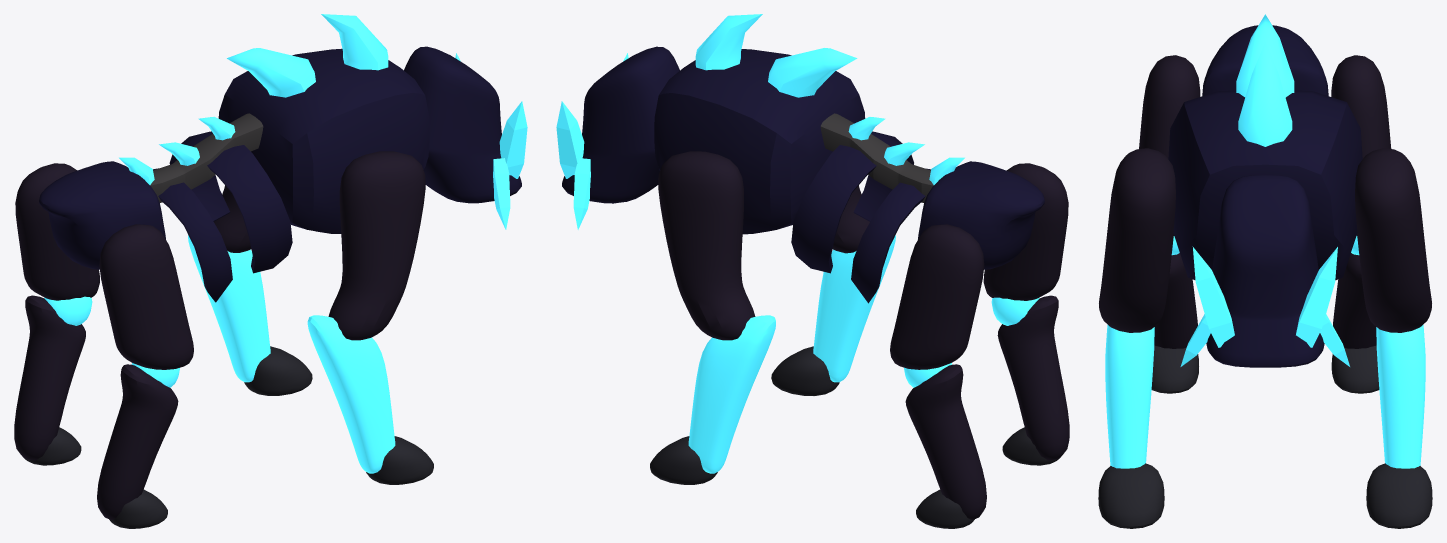
The model's file is робот 3.fbx.
3 views of the same model, side by side, from view 1: azimuth 30°, elevation 25°; view 2: azimuth 150°, elevation 25°; view 3: azimuth 270°, elevation 25° (orthographic). The views are drawn at different scales.
Parts seen in each view (by area): view 1: Cube, Cube.011, Cube.007, Cube.006, Cube.004, Cube.012, Cube.014, Cube.017, Cube.002, Cube.005, Cube.009, Cube.003 (+11 smaller); view 2: Cube, Cube.008, Cube.007, Cube.005, Cube.004, Cube.009, Cube.017, Cube.014, Cube.002, Cube.006, Cube.012, Cube.003 (+11 smaller); view 3: Cube, Cube.007, Cube.008, Cube.011, Cube.009, Cube.012, Cube.004, Cube.006, Cube.005, Cube.010, Cube.013, Cube.020 (+9 smaller).
Part boxes in pixels (left/top/right/bottom): Cube: left=218, top=48, right=429, bottom=233; Cube.011: left=328, top=151, right=425, bottom=340; Cube.007: left=404, top=46, right=521, bottom=203; Cube.006: left=99, top=224, right=193, bottom=369; Cube.004: left=39, top=161, right=165, bottom=269; Cube.012: left=307, top=315, right=395, bottom=473; Cube.014: left=14, top=295, right=85, bottom=460; Cube.017: left=97, top=364, right=178, bottom=519; Cube.002: left=169, top=131, right=292, bottom=273; Cube.005: left=15, top=163, right=99, bottom=300; Cube.009: left=188, top=235, right=270, bottom=382; Cube.003: left=153, top=168, right=232, bottom=302; Cube: left=654, top=49, right=865, bottom=234; Cube.008: left=658, top=151, right=755, bottom=340; Cube.007: left=562, top=46, right=679, bottom=203; Cube.005: left=890, top=224, right=984, bottom=369; Cube.004: left=918, top=161, right=1044, bottom=269; Cube.009: left=688, top=315, right=775, bottom=473; Cube.017: left=997, top=295, right=1069, bottom=460; Cube.014: left=905, top=364, right=986, bottom=519; Cube.002: left=791, top=131, right=913, bottom=273; Cube.006: left=983, top=163, right=1068, bottom=300; Cube.012: left=813, top=235, right=895, bottom=382; Cube.003: left=851, top=168, right=930, bottom=303; Cube: left=1168, top=90, right=1362, bottom=280; Cube.007: left=1206, top=175, right=1324, bottom=367; Cube.008: left=1355, top=148, right=1431, bottom=332; Cube.011: left=1099, top=148, right=1175, bottom=332; Cube.009: left=1376, top=325, right=1425, bottom=468; Cube.012: left=1105, top=325, right=1154, bottom=468; Cube.004: left=1202, top=25, right=1328, bottom=95; Cube.006: left=1139, top=55, right=1200, bottom=235; Cube.005: left=1331, top=55, right=1391, bottom=235; Cube.010: left=1366, top=463, right=1432, bottom=528; Cube.013: left=1098, top=463, right=1164, bottom=528; Cube.020: left=1238, top=42, right=1292, bottom=146.
Size of the model in its own units: 363 by 315 by 204.
